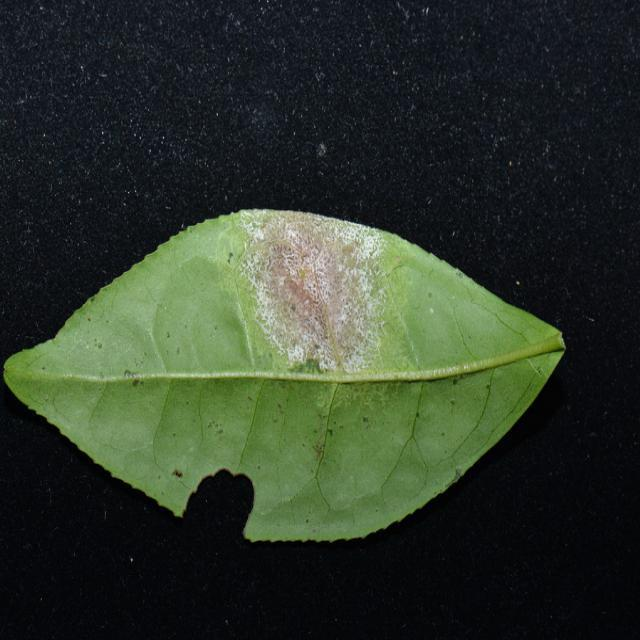Tea exobasidium blight: (238, 206, 388, 368)
